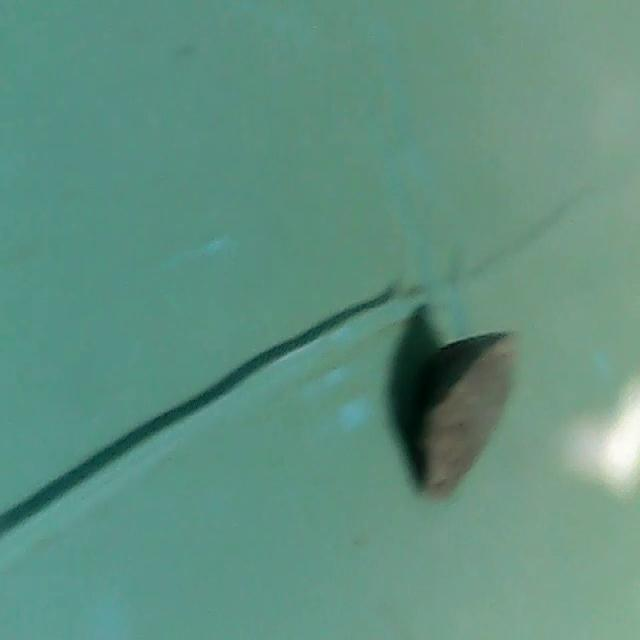rock: (390, 307, 529, 513)
